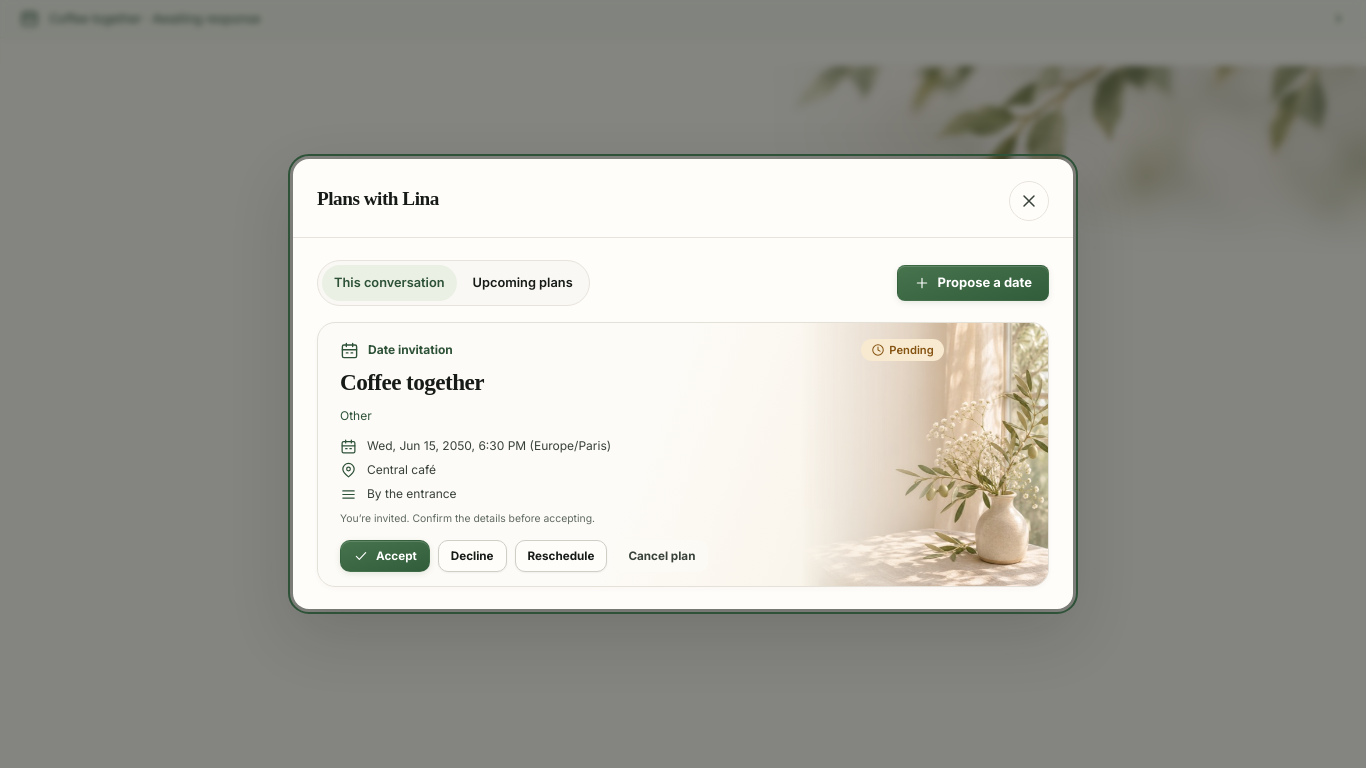
rescheduling uses the plan's local time and stale versions refresh the plan
Click the button "Reschedule" at [561, 556], box [515, 540, 607, 572]
(page scrolled)
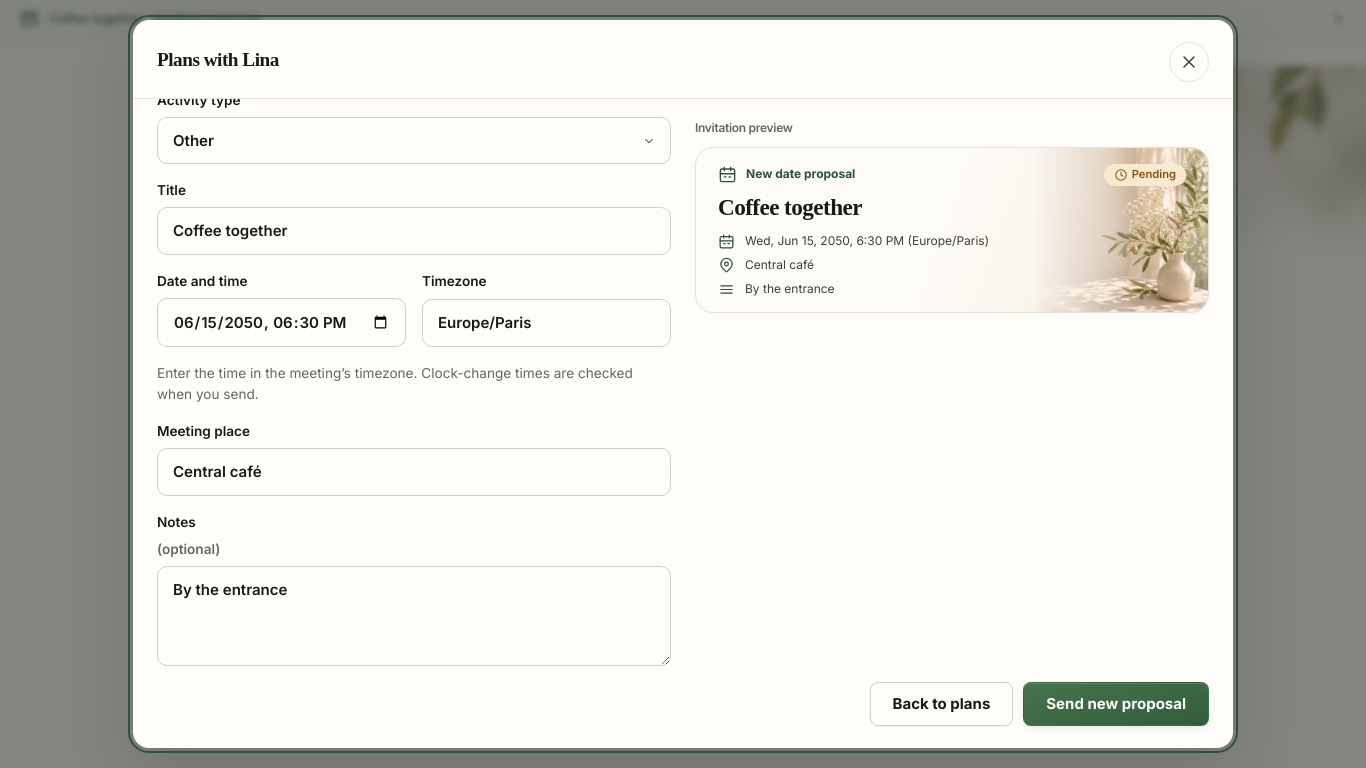
Expected: the field labelled "Date and time" holds "2050-06-15T18:30", [157, 298, 406, 347]
Click the button "Send new proposal" at [1116, 704], box [1023, 682, 1209, 726]
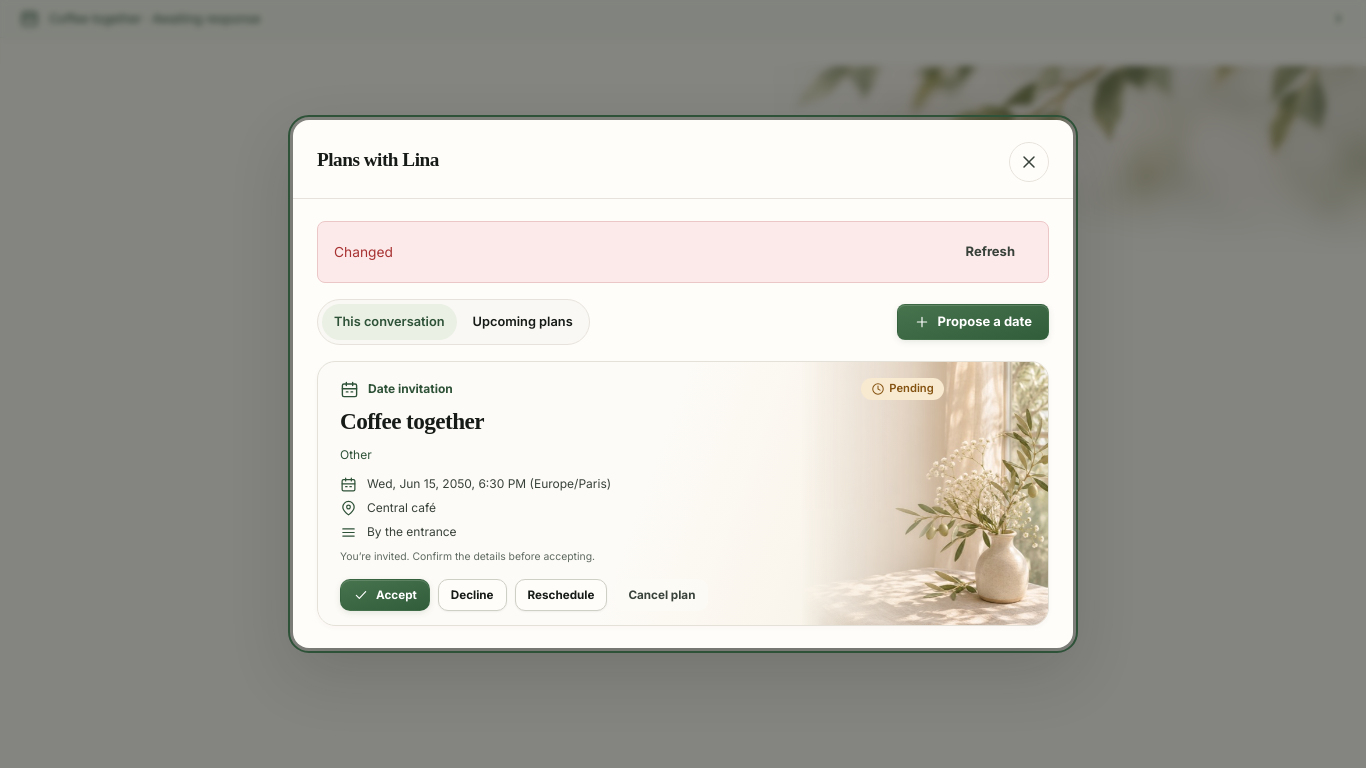
Expected: the button "Propose a date" is shown, [897, 304, 1049, 340]
